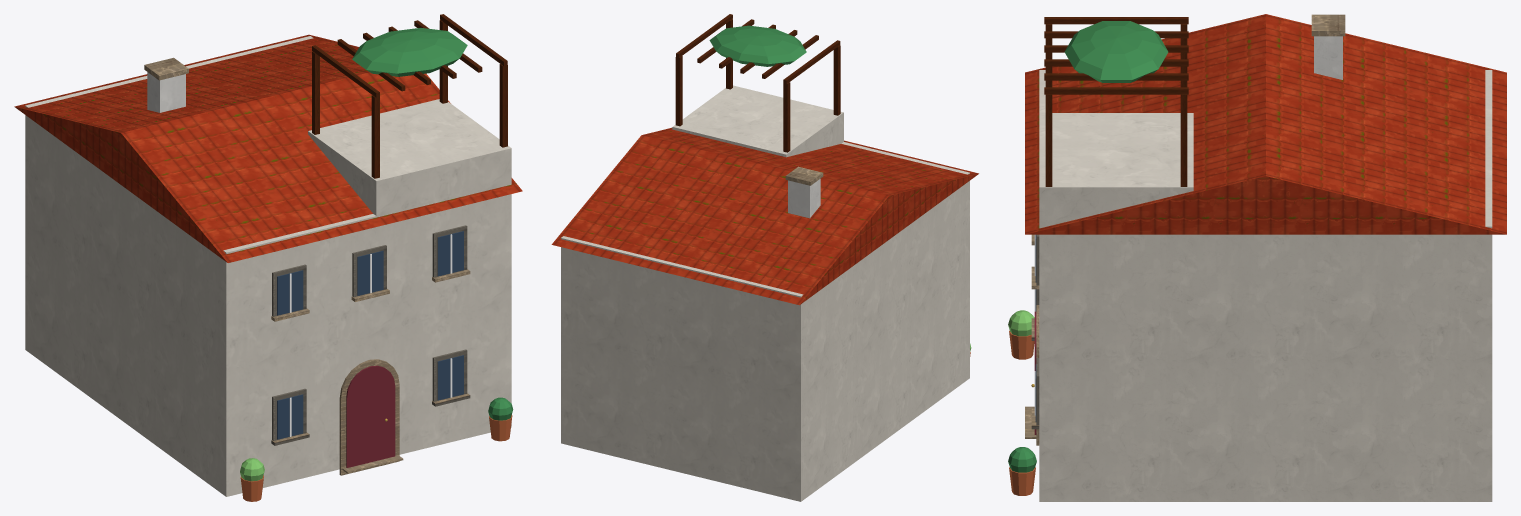
File: mediterranea_w8_0.gltf
3 views of the same model, side by side, from view 1: azimuth 30°, elevation 25°; view 2: azimuth 150°, elevation 25°; view 3: azimuth 270°, elevation 25° (orthographic). The views are drawn at different scales.
Parts seen in each view (by area): view 1: mediterranea_w8_0; view 2: mediterranea_w8_0; view 3: mediterranea_w8_0.
Boxes of the visible parts, box(x1,y1,x2,y2) form: mediterranea_w8_0: box(14, 14, 522, 501); mediterranea_w8_0: box(551, 14, 978, 501); mediterranea_w8_0: box(1008, 14, 1506, 501).
Size of what is drawn, in the model's own units: 7.96 by 9.9 by 10.35.
Materials: 7 (4 with a texture image).
